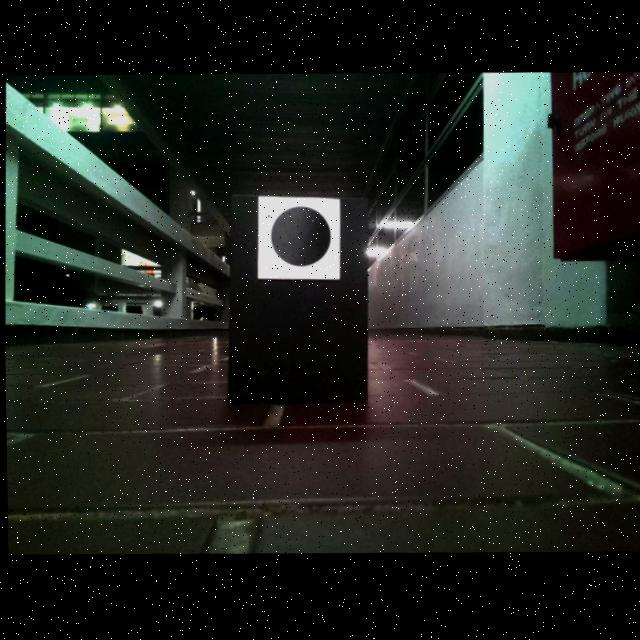CIRCLE: (265, 206, 334, 273)
